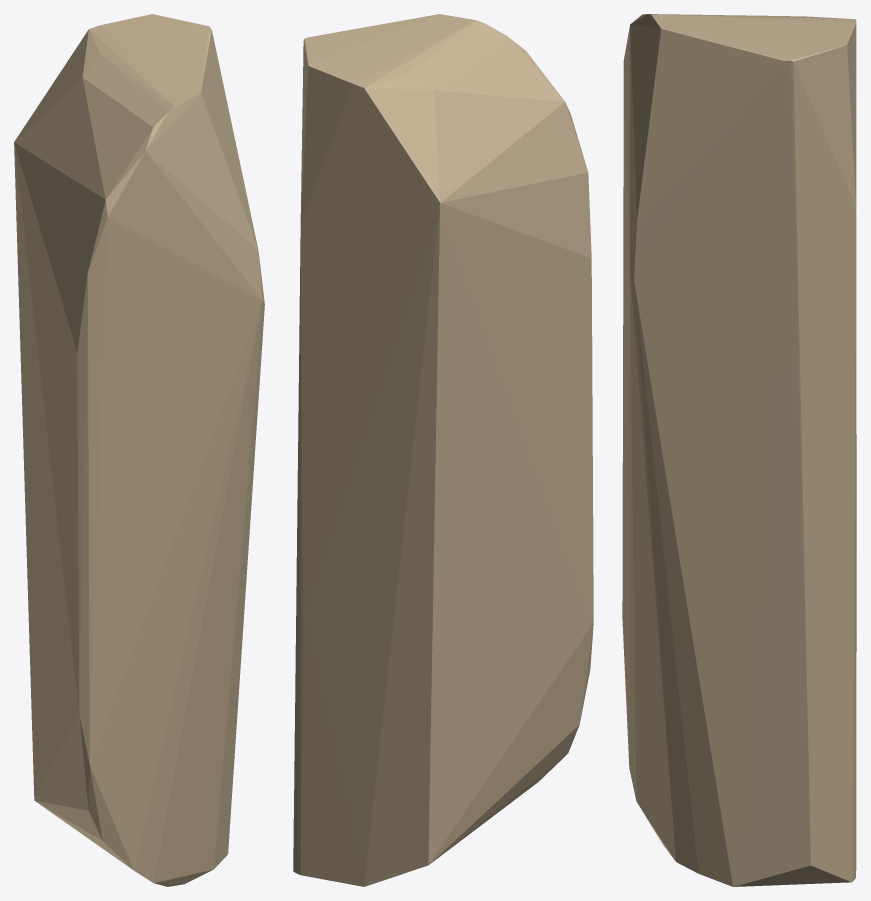
Rendered from interiorPart_dashboard_panel_assembly_c01.glb.
3 renders of one model, left to right at view 1: azimuth 30°, elevation 25°; view 2: azimuth 150°, elevation 25°; view 3: azimuth 270°, elevation 25°, orthographic. The views are drawn at different scales.
Visible parts, largest first — view 1: geometry_0; view 2: geometry_0; view 3: geometry_0.
Part boxes in pixels (x1=…): geometry_0: x1=14, y1=14, x2=264, y2=886; geometry_0: x1=293, y1=14, x2=593, y2=886; geometry_0: x1=622, y1=14, x2=856, y2=886.
Bounding box in the file's own units: 0.1307 × 0.4789 × 0.1221.
